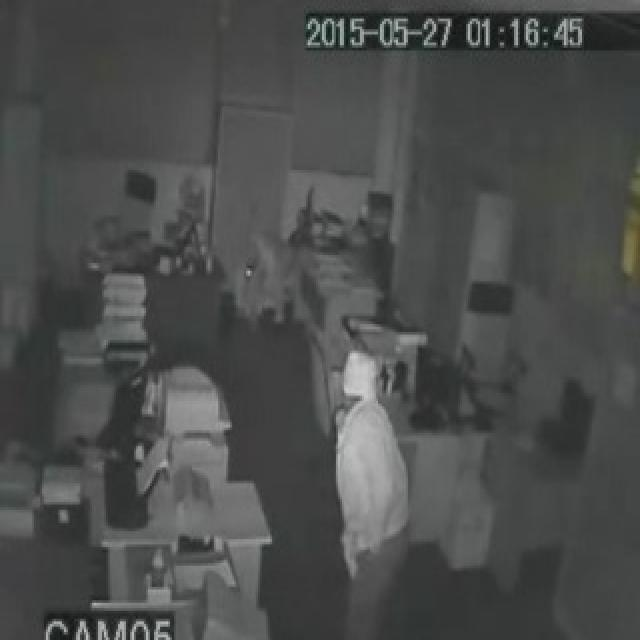thief: (314, 339, 421, 616), (232, 234, 302, 362)
